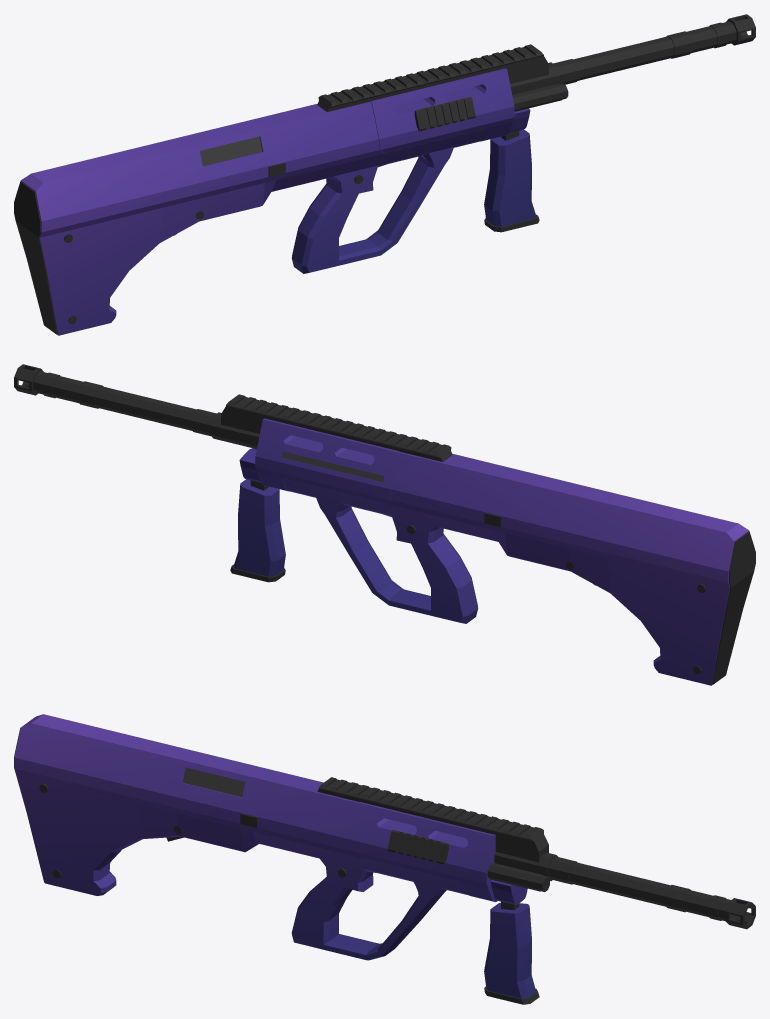
The model's file is AssaultRifle2_06.fbx.
3 views of the same model, one above another, from view 1: azimuth 30°, elevation 25°; view 2: azimuth 150°, elevation 25°; view 3: azimuth 330°, elevation 25° (orthographic).
Visible parts, largest first — view 1: AssaultRifle2_06; view 2: AssaultRifle2_06; view 3: AssaultRifle2_06.
Part boxes in pixels (left/top/right/bottom): AssaultRifle2_06: left=14, top=14, right=755, bottom=335; AssaultRifle2_06: left=14, top=364, right=755, bottom=685; AssaultRifle2_06: left=14, top=714, right=755, bottom=1004.
Size of the model in its own units: 0.9551 by 0.2132 by 0.0697.
